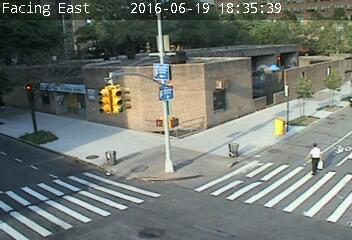neg: (165, 104, 187, 133), (131, 124, 146, 145), (223, 120, 235, 135)
pos: (299, 139, 327, 176)
